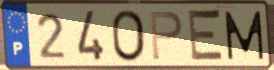2: (35, 11, 68, 60)
4: (76, 9, 107, 63)
E: (187, 6, 227, 64)
M: (222, 9, 267, 62)
O: (110, 8, 148, 64)
P: (148, 10, 184, 62)
